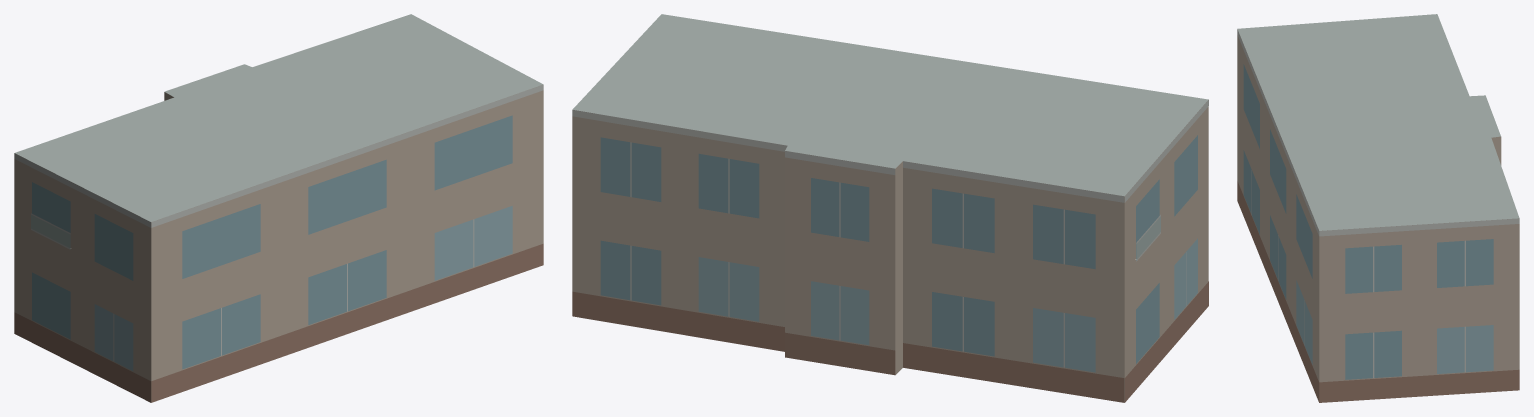
The model's file is survey-upis-32638685.glb.
3 renders of one model, left to right at view 1: azimuth 30°, elevation 25°; view 2: azimuth 150°, elevation 25°; view 3: azimuth 270°, elevation 25°, orthographic. The views are drawn at different scales.
Parts seen in each view (by area): view 1: survey-upis-32638685.tmp; view 2: survey-upis-32638685.tmp; view 3: survey-upis-32638685.tmp.
Boxes of the visible parts, bbox=[...] form: survey-upis-32638685.tmp: bbox=[14, 14, 543, 402]; survey-upis-32638685.tmp: bbox=[572, 14, 1208, 402]; survey-upis-32638685.tmp: bbox=[1237, 14, 1519, 402].
Size of the model in its own units: 20.57 by 7.6 by 11.32.
